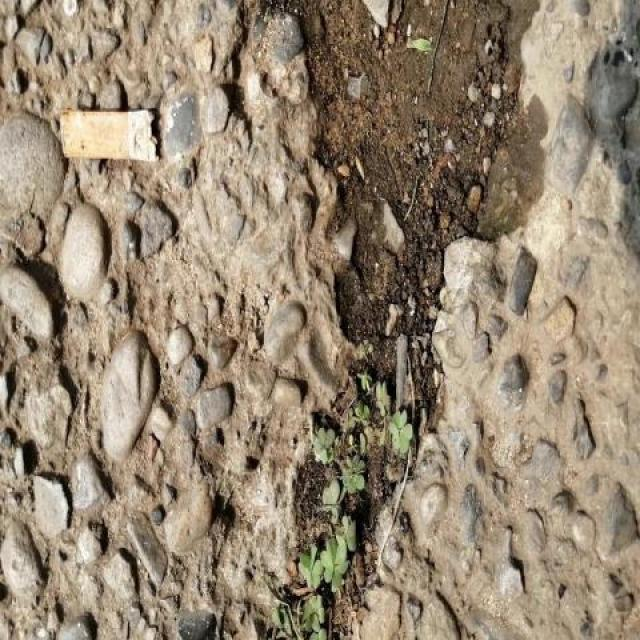non-organic waste: (52, 100, 164, 164)
